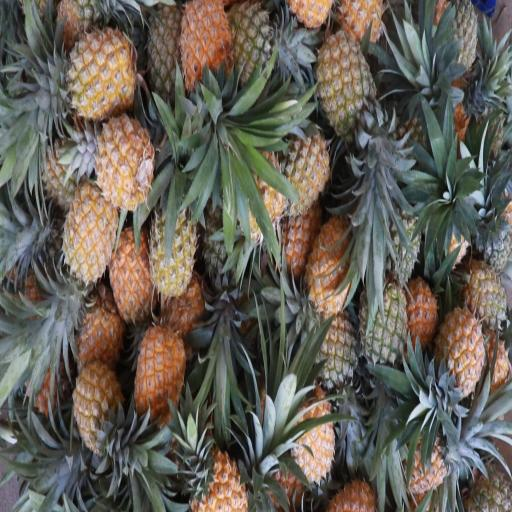------------------------------: (313, 28, 378, 152), (299, 280, 355, 386), (149, 191, 199, 306), (459, 252, 512, 334), (235, 4, 283, 88)
Pineapple - v8 v1: (44, 20, 138, 121), (92, 105, 155, 218), (281, 370, 341, 487), (56, 176, 118, 288), (302, 197, 360, 314), (174, 0, 236, 109), (130, 324, 187, 432), (433, 293, 484, 408), (69, 356, 128, 455), (276, 112, 330, 209), (105, 224, 157, 324), (185, 434, 248, 512), (402, 403, 452, 493)
